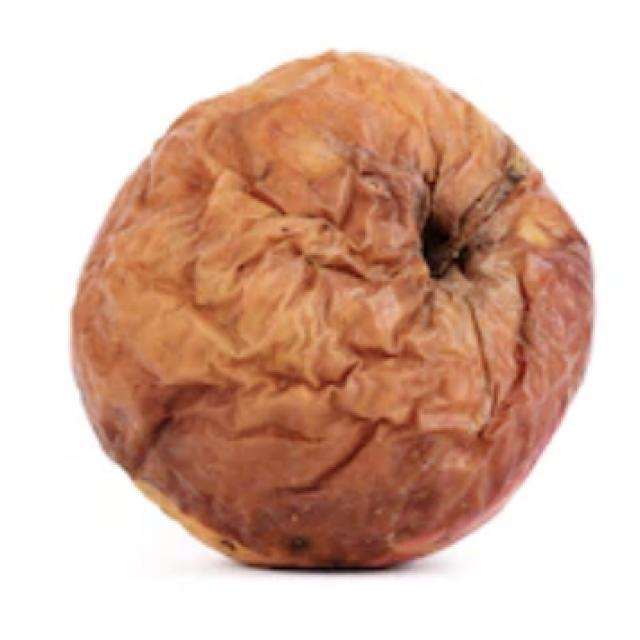Rotten: (68, 48, 602, 580)
